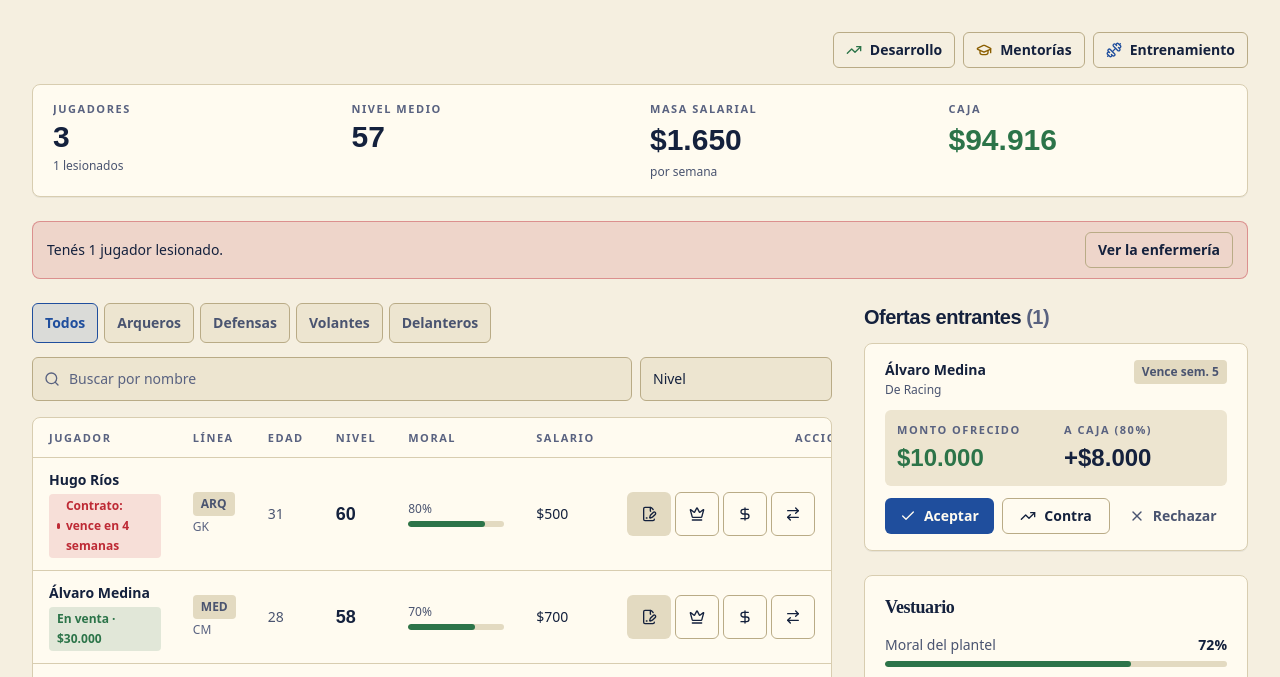
Test case: pantalla Plantel › poner en venta abre el panel con precios sugeridos y guarda el estado
Later steps or results of the test are not shown.
Click the button named "Poner en venta: Hugo Ríos" at [745, 514], box [723,492,767,536]
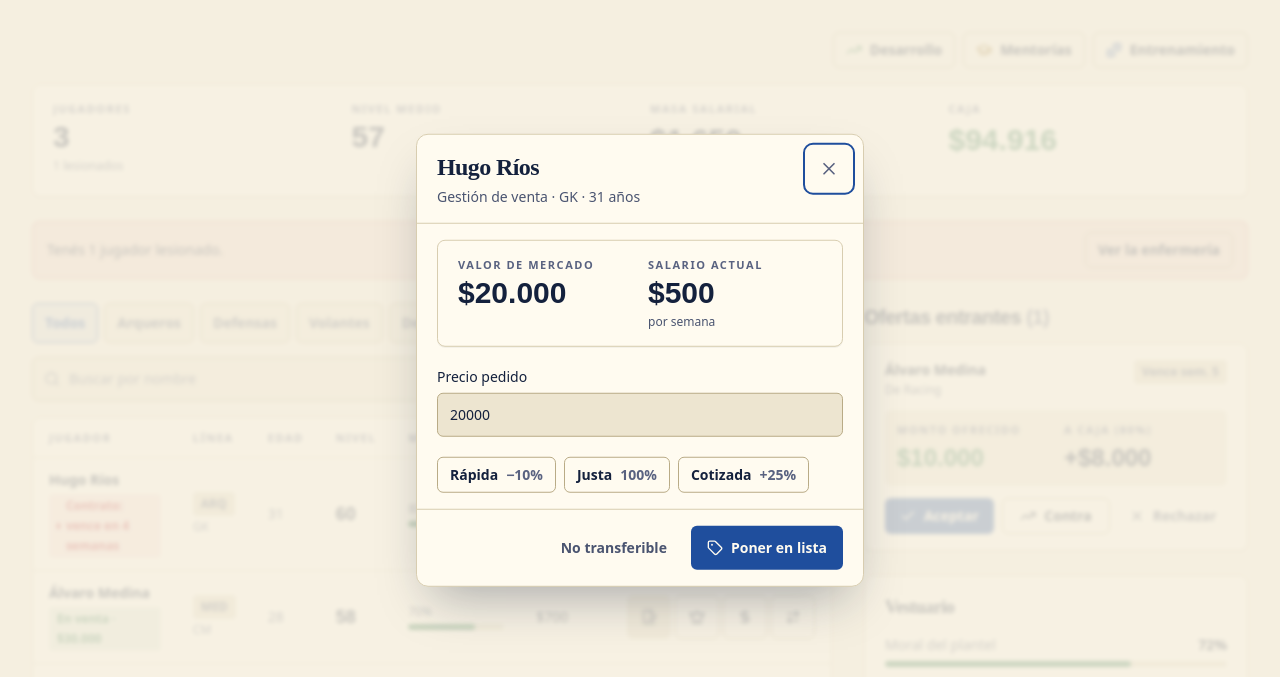
Click the button "Justa 100%" at [617, 474], box [564,456,670,492]
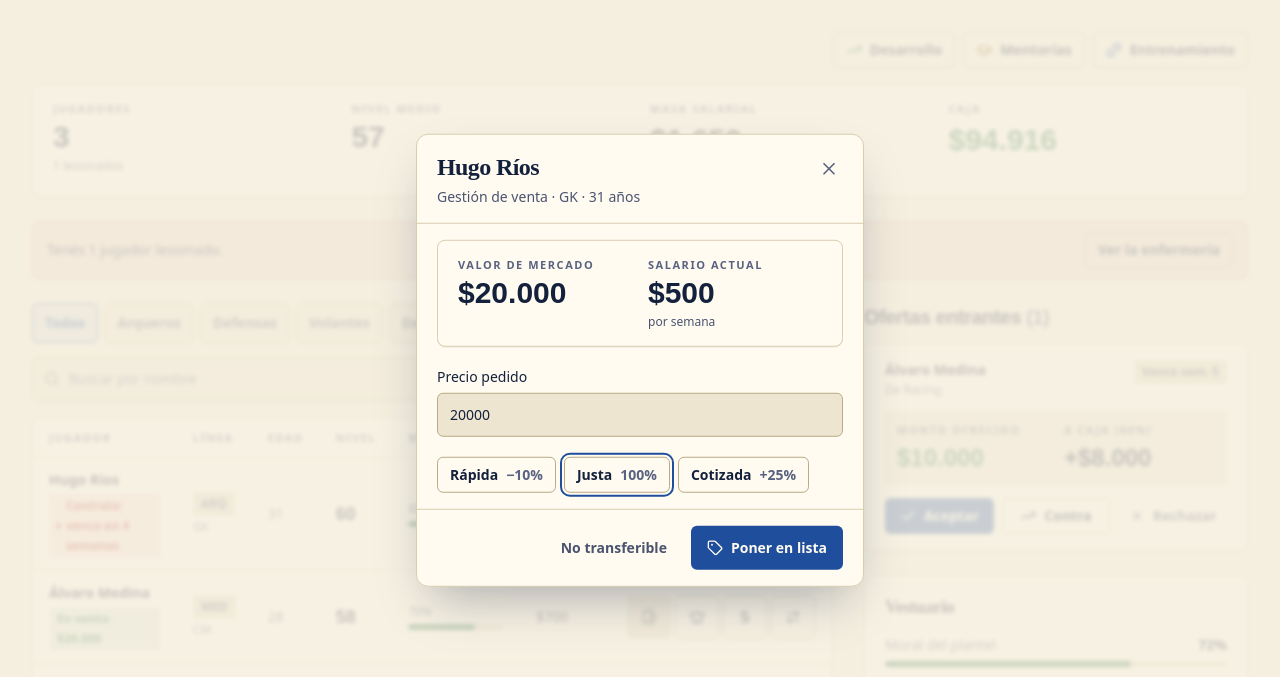
Result: the number field labelled "Precio pedido" holds "20000" at [437,392,843,436]
